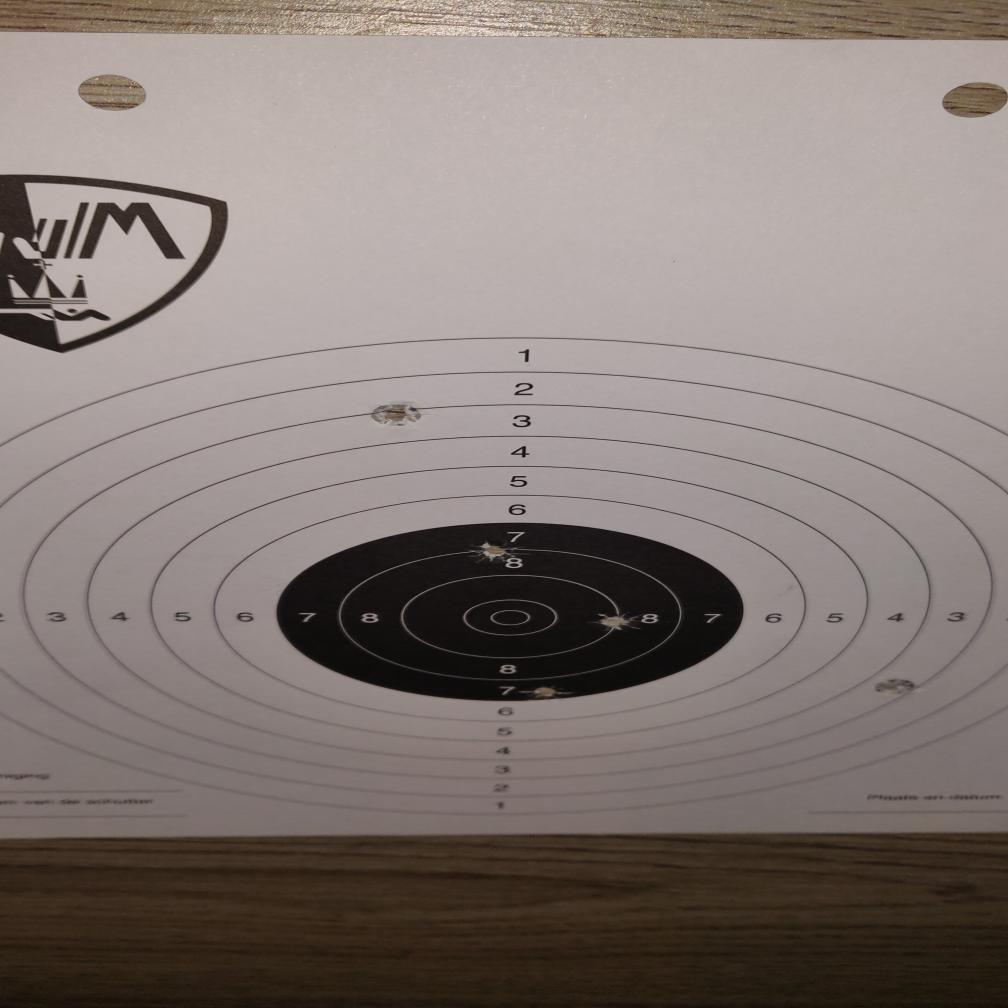3: (366, 400, 428, 430), (874, 677, 922, 697)
7: (522, 680, 572, 704)
8: (456, 539, 526, 564)
9: (590, 606, 641, 636)
Target: (1, 339, 1008, 825)
black_contour: (280, 518, 746, 702)
